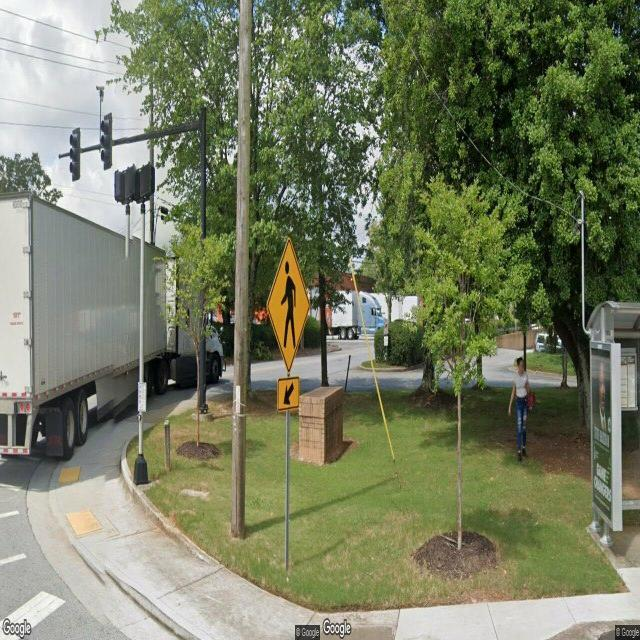shelter: (587, 301, 640, 538)
